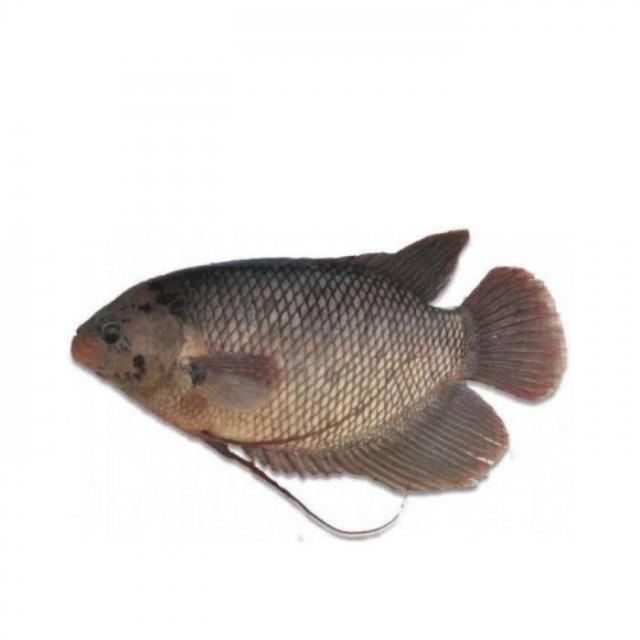Mulut: (44, 310, 128, 400)
Sirip Anal: (253, 382, 523, 530)
Sirip Dada: (173, 332, 291, 416)
Sirip Ekor: (453, 243, 585, 419)
Sirip Punggung: (292, 208, 476, 322)
